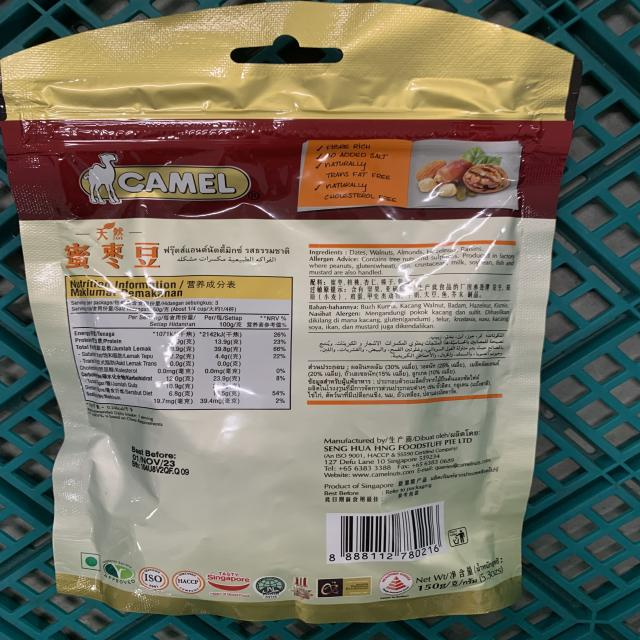object_name: (5, 10, 548, 614)
